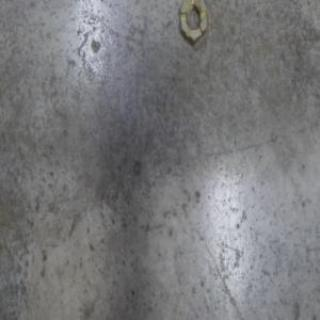Nuttrack_idkeyframe: (179, 0, 208, 45)
